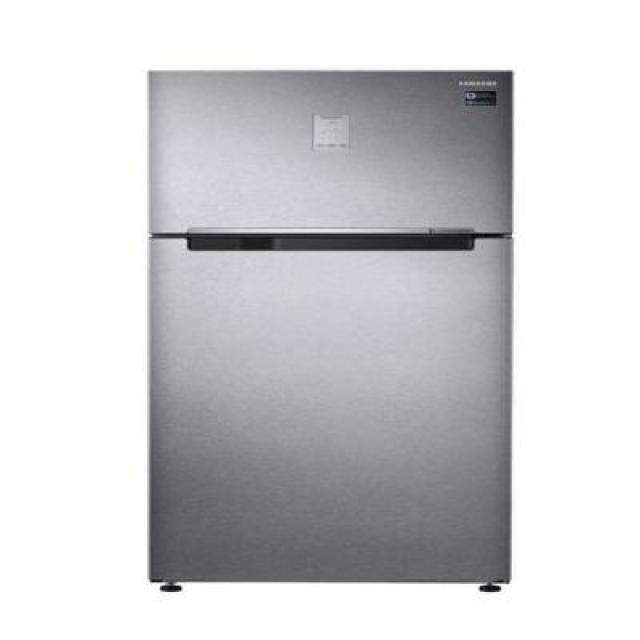refrigerator: (143, 66, 516, 584)
